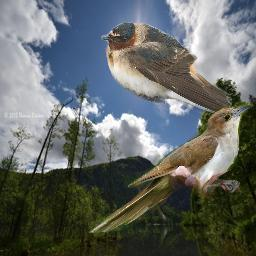Cuckoo: (88, 102, 253, 233)
Swallow: (101, 22, 242, 119)
